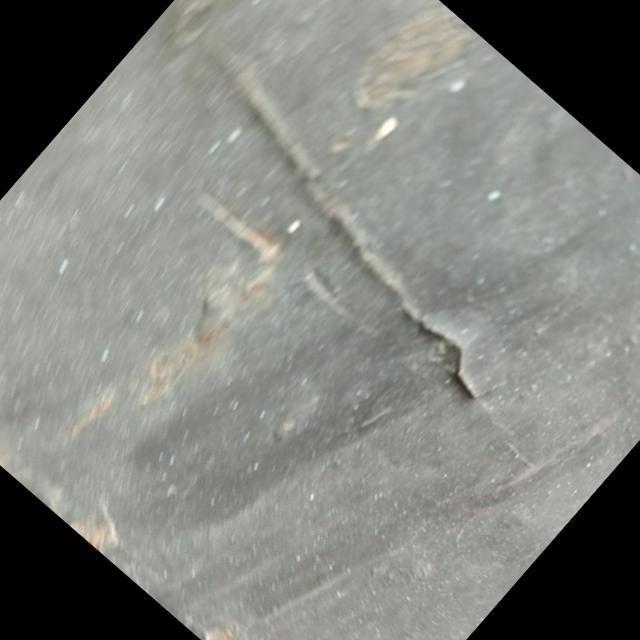defect: (213, 59, 483, 406)
